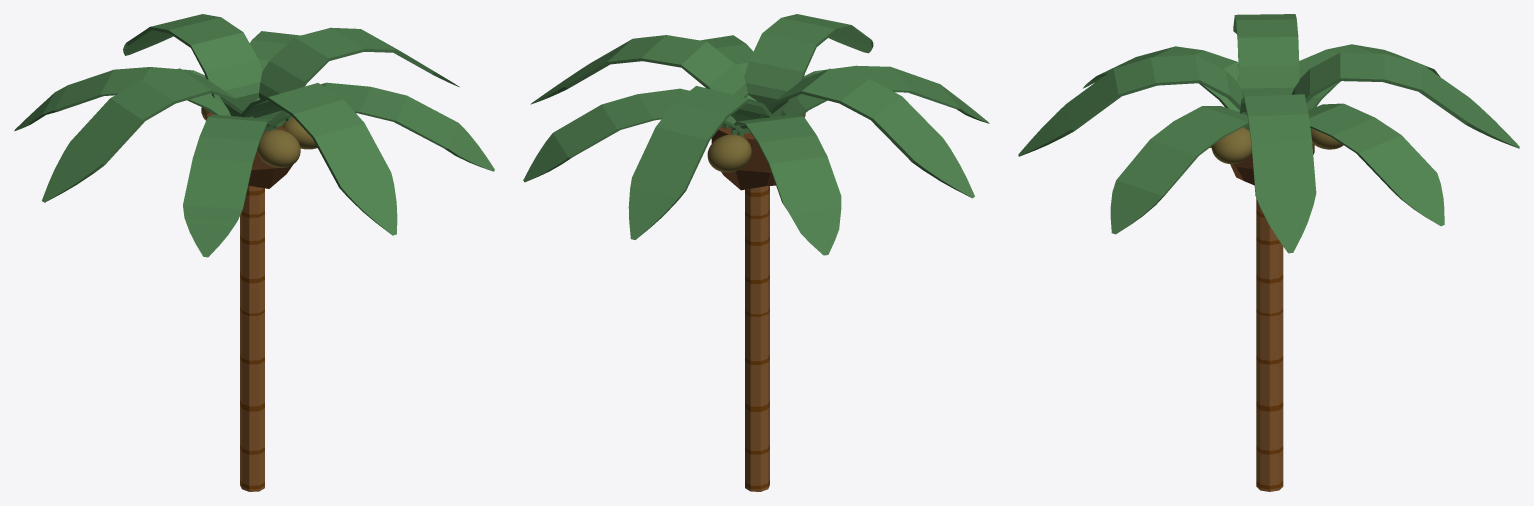
Rendered from PalmTree.fbx.
The picture shows the model from 3 angles, left to right: view 1: azimuth 30°, elevation 25°; view 2: azimuth 150°, elevation 25°; view 3: azimuth 270°, elevation 25°; orthographic projection.
Parts seen in each view (by area): view 1: Cube.001; view 2: Cube.001; view 3: Cube.001.
Part boxes in pixels (x1,y1,x2,y2): Cube.001: (14, 14, 494, 491); Cube.001: (523, 14, 989, 491); Cube.001: (1018, 14, 1519, 491).
Bounding box in the file's own units: 678 × 635 × 685.
